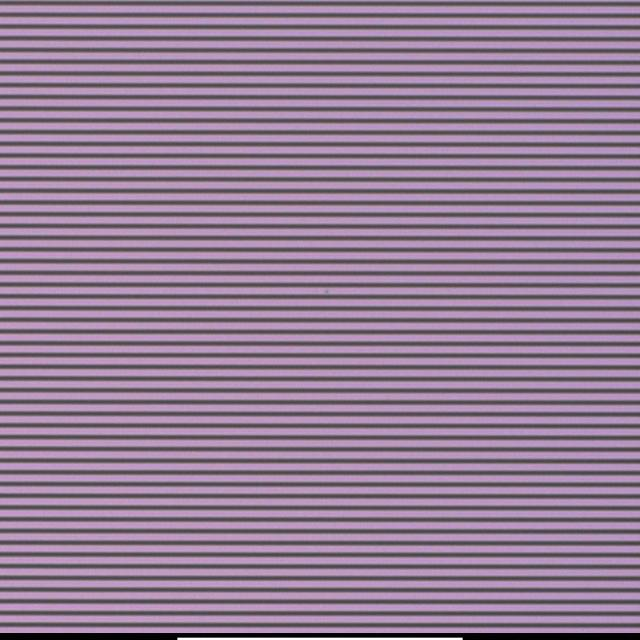nonvisual: (321, 284, 332, 299)
